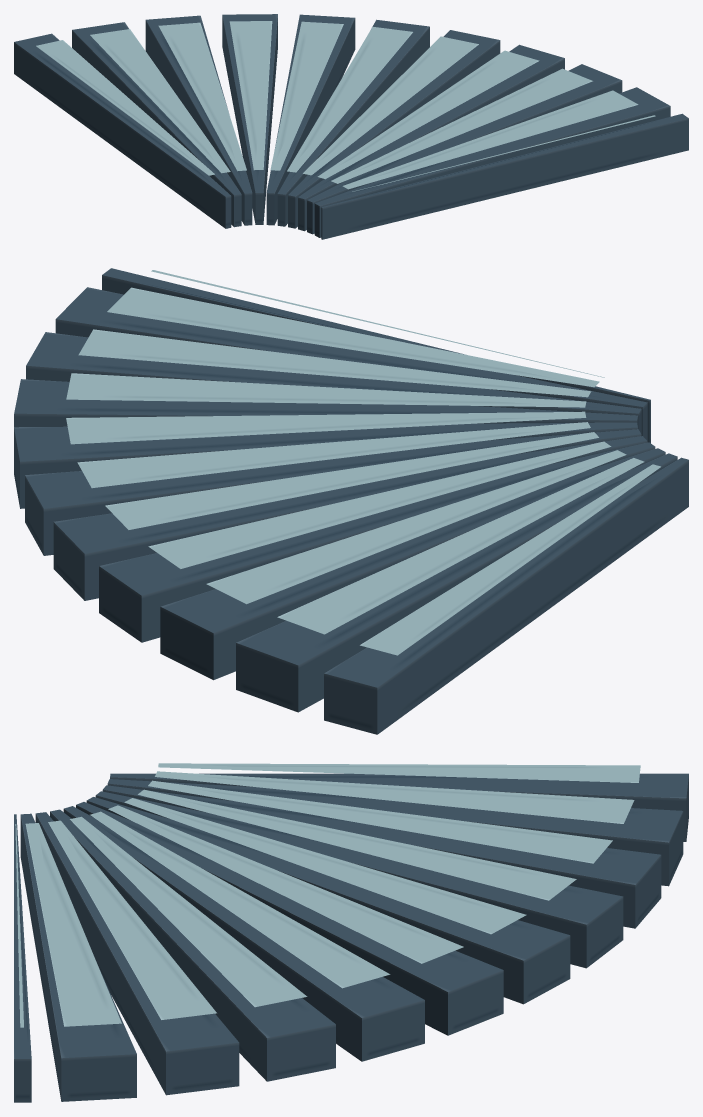
Rendered from sc_tread_curve_left_20.obj.
3 renders of one model, top to bottom at view 1: azimuth 30°, elevation 25°; view 2: azimuth 150°, elevation 25°; view 3: azimuth 270°, elevation 25°, orthographic. The views are drawn at different scales.
Size of the model in its own units: 17.5 by 1.56 by 17.5.
1 material, 1 textured.
